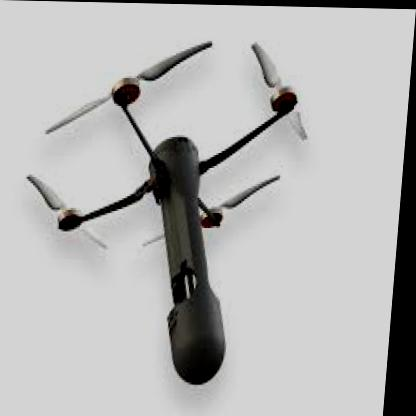UAS: (17, 37, 316, 387)
